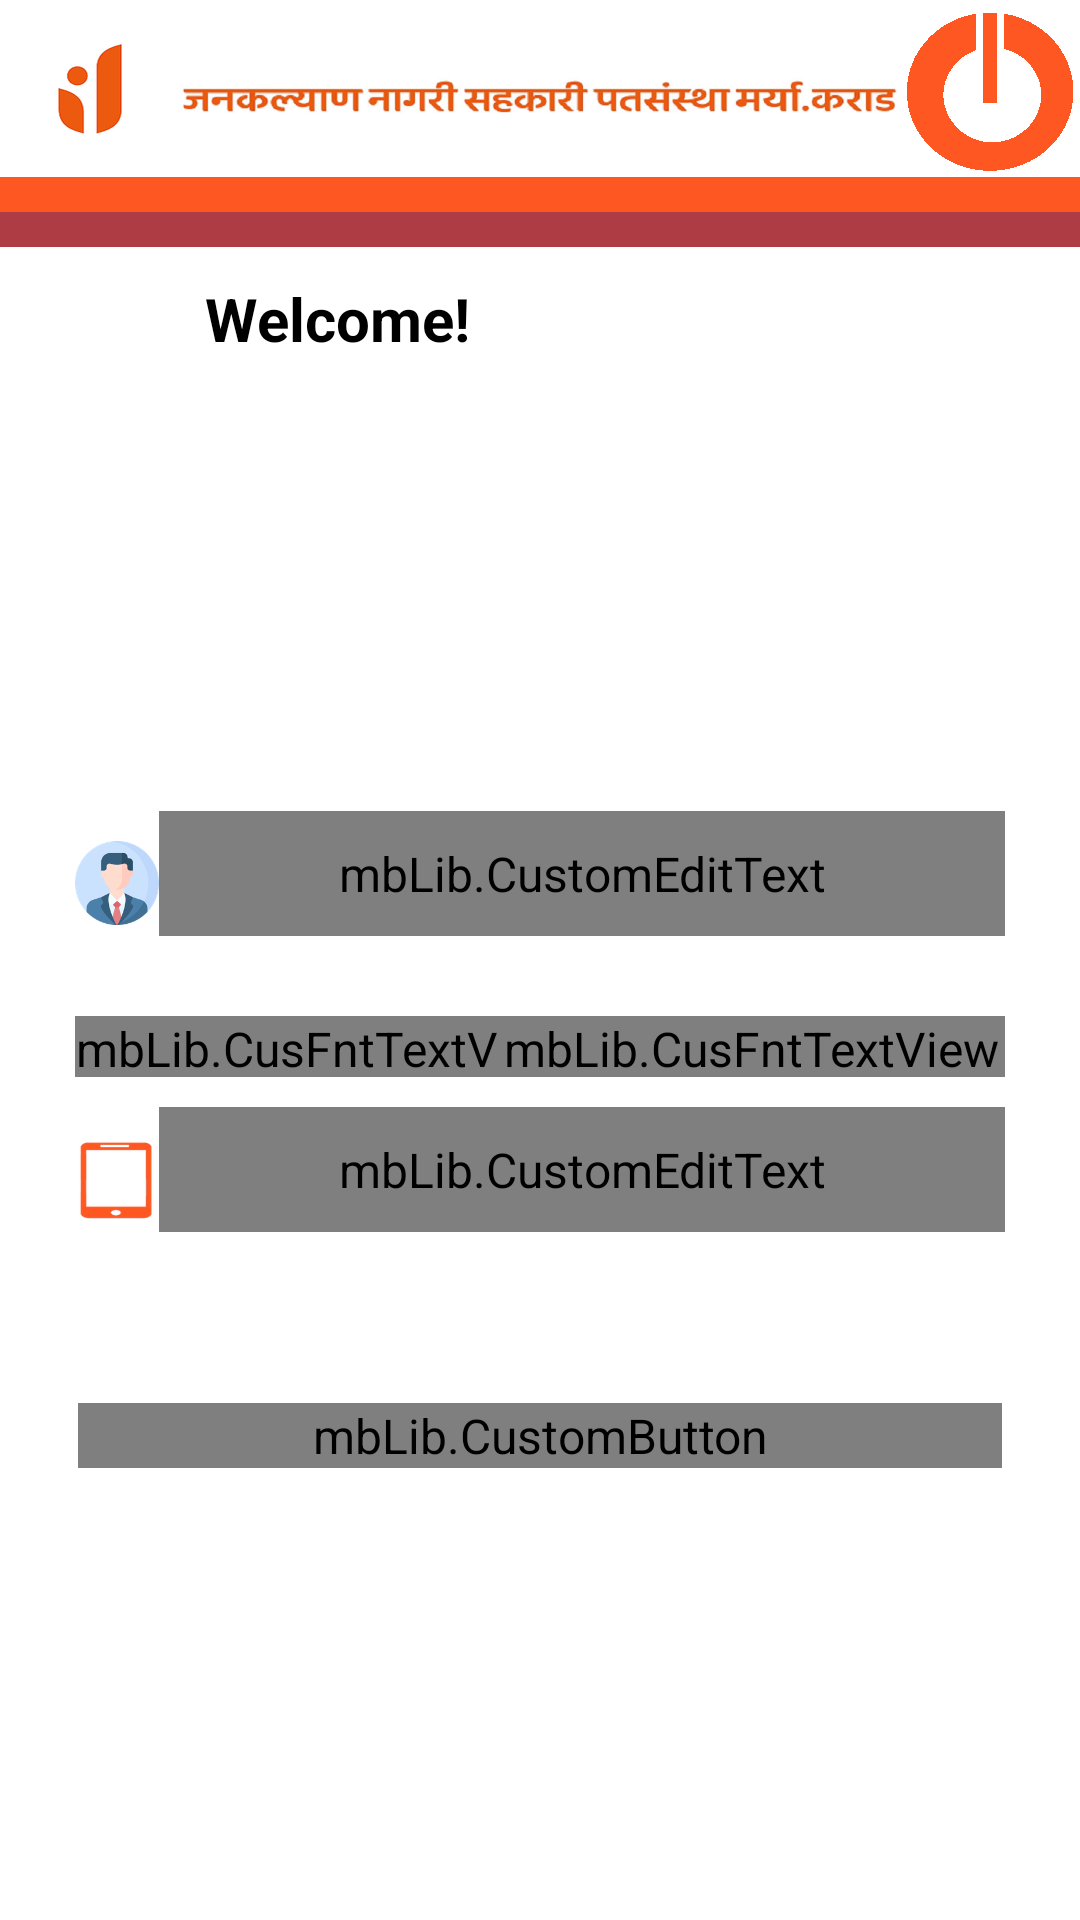

Where to tap for icons on this 1080 × 1920 app screen, as [x,y]:
login username: [117,883]
